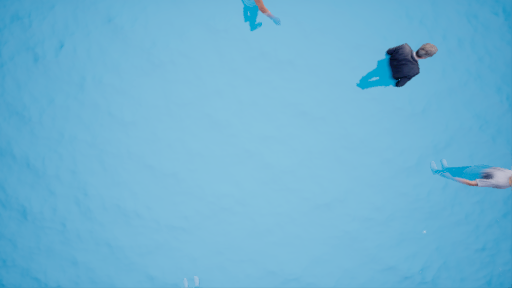person: (348, 24, 442, 93), (423, 159, 512, 193), (234, 1, 287, 42)
